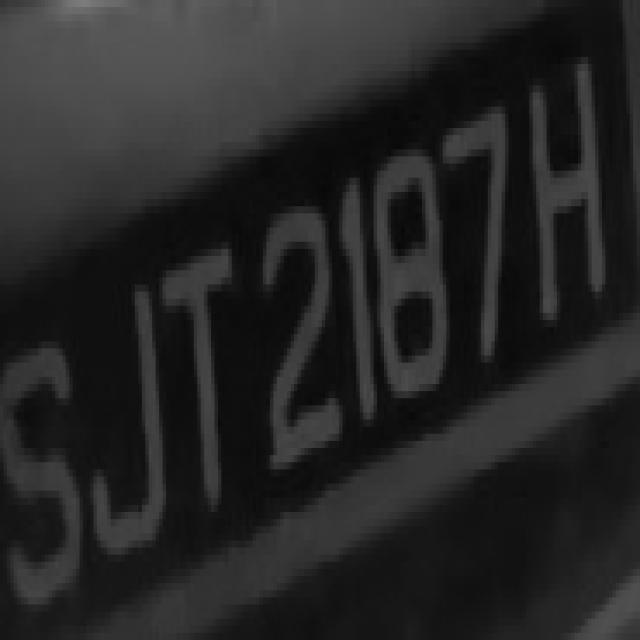1: (322, 164, 387, 462)
2: (246, 164, 346, 512)
7: (429, 121, 512, 384)
8: (363, 170, 453, 427)
H: (526, 71, 609, 334)
J: (79, 263, 180, 597)
S: (0, 313, 83, 640)
T: (145, 228, 249, 548)
